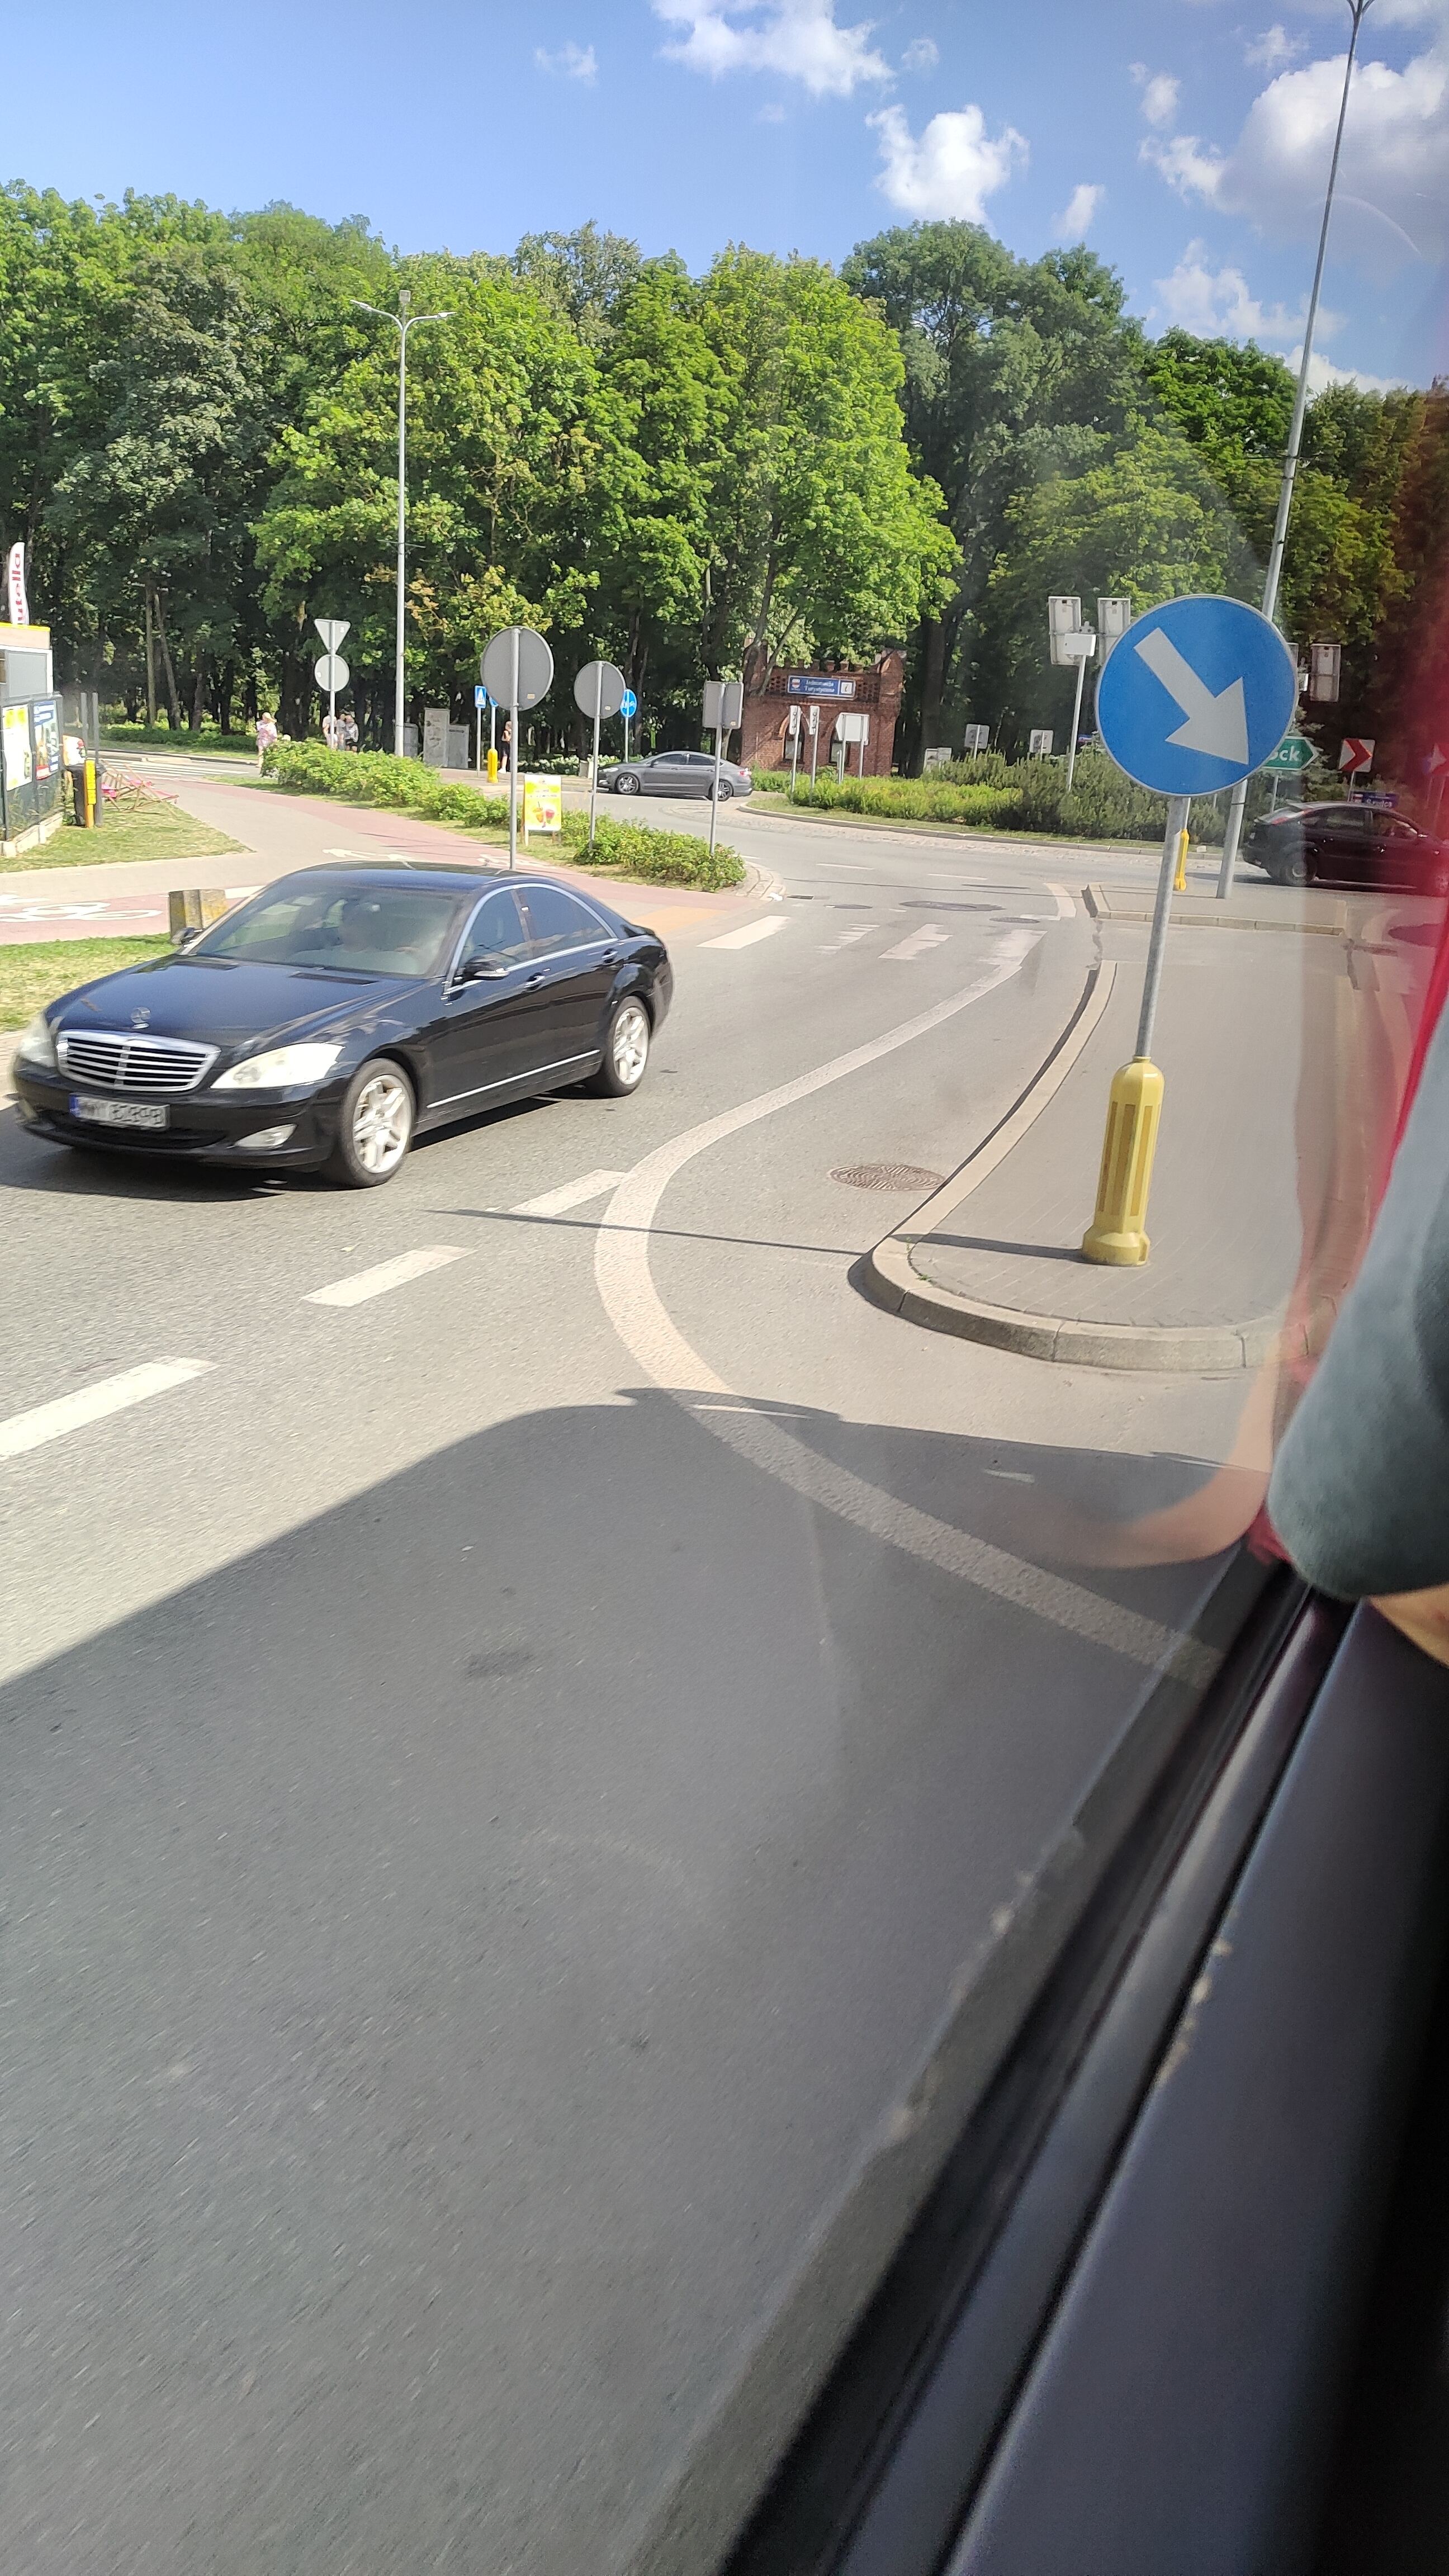number_plate: (68, 1092, 171, 1134)
